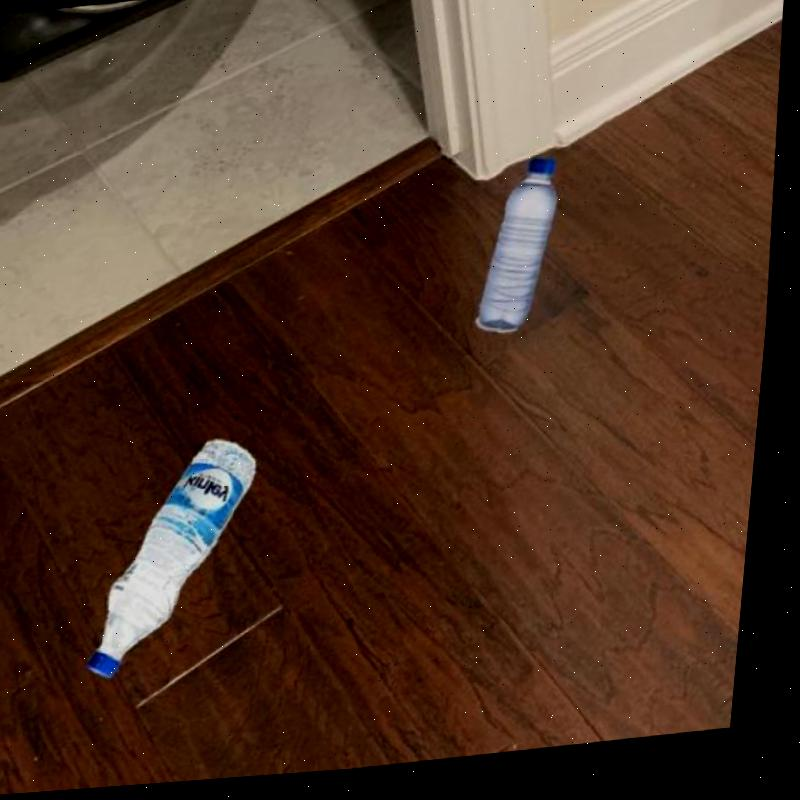botella: (90, 436, 272, 683), (473, 156, 568, 345)
